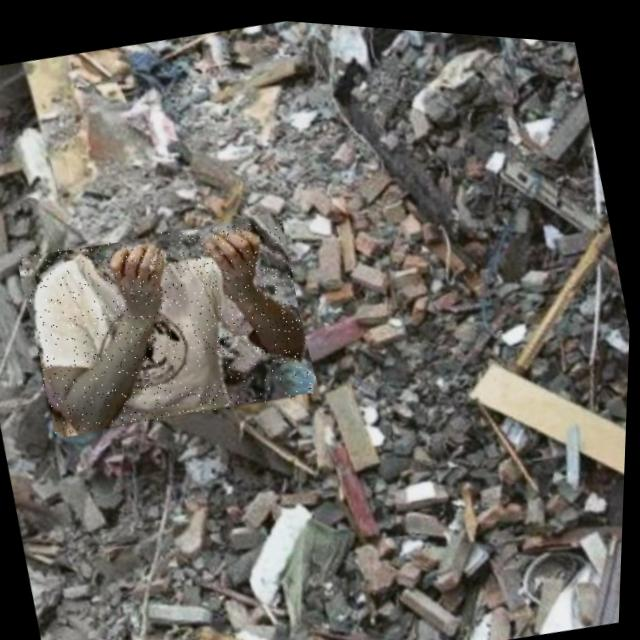Person in Rubble: (15, 193, 325, 450)
